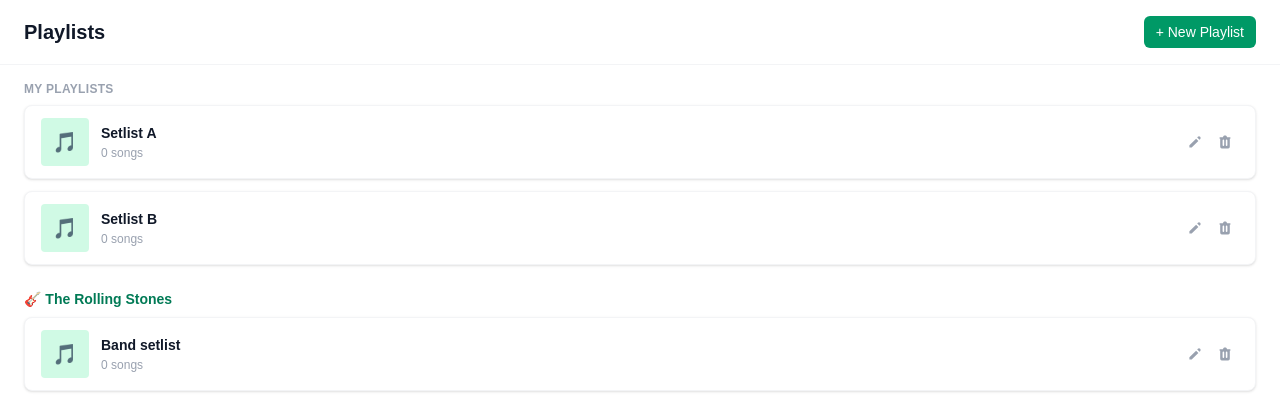
Test case: PlaylistsView › renames a playlist through the injected action and shows the new name
Click the button named "Rename Setlist A" at (1195, 142), box [1181,128,1209,156]
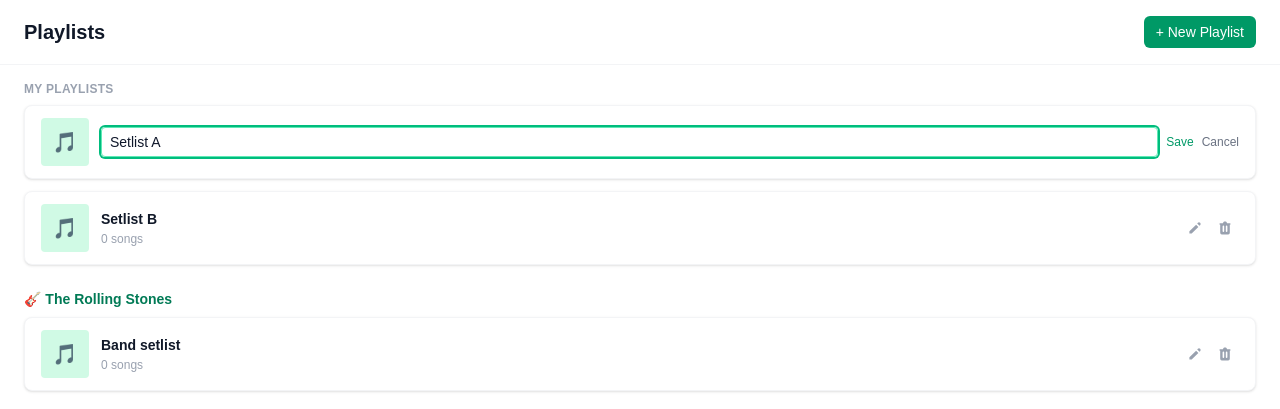
Replace the text in the field showing "Setlist A" with "Wedding gig" at (630, 142), box [101,127,1158,157]
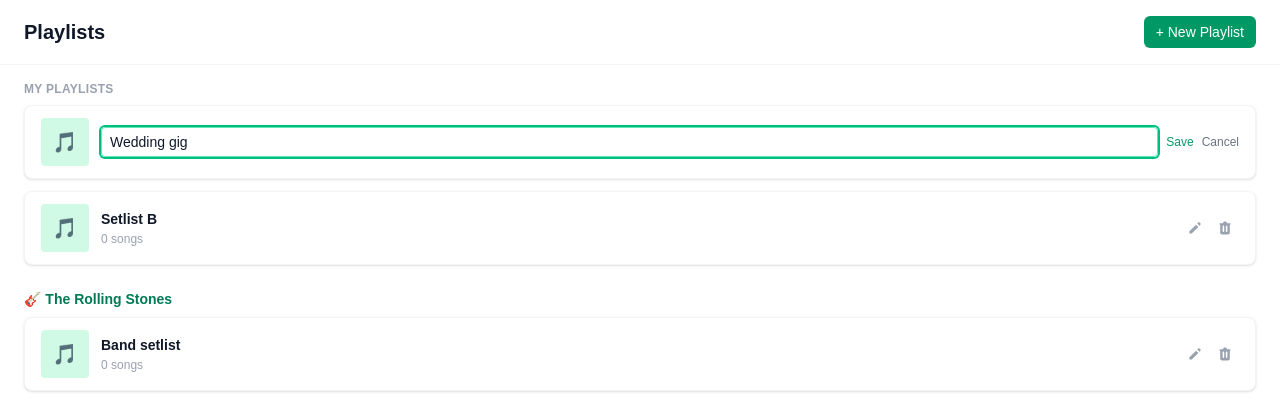
Click the button "Save" at (1180, 142), box [1166,134,1194,150]
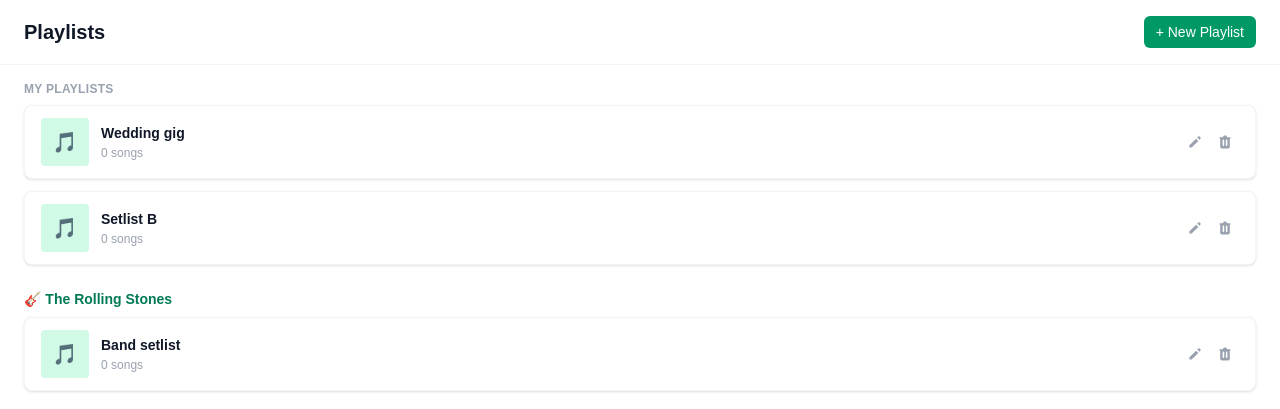
Expected: the text "Setlist A" is not shown
Expected: the text "Wedding gig" is shown, [101,125,185,141]
